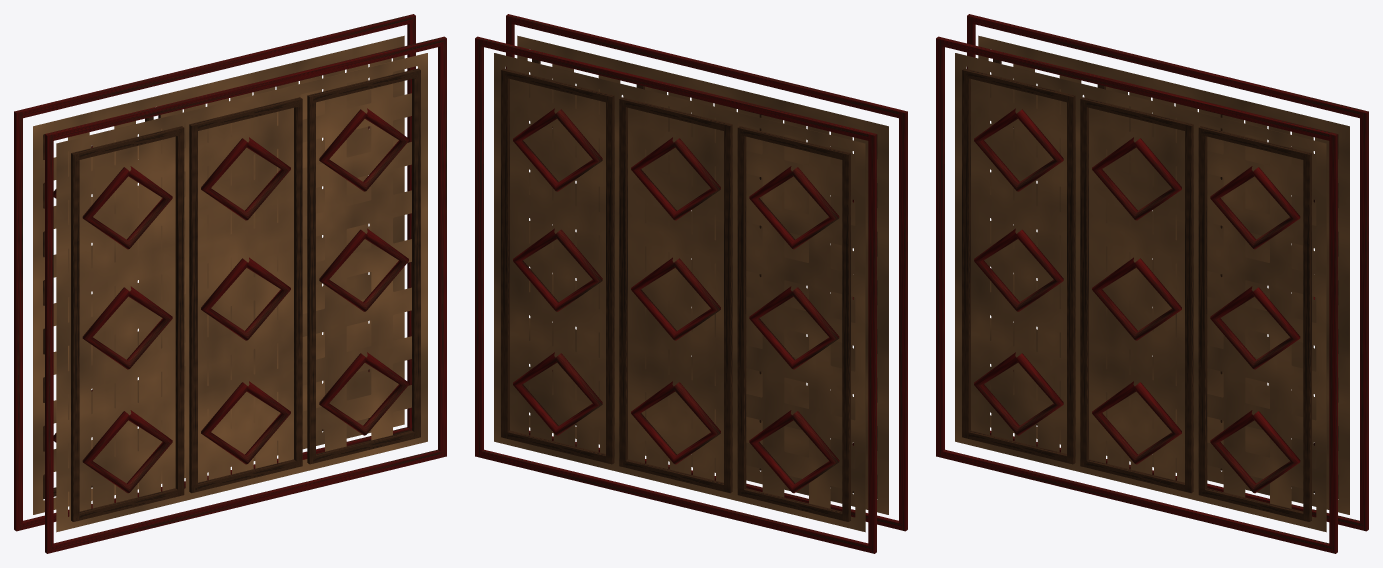
File: window.glb
3 renders of one model, left to right at view 1: azimuth 30°, elevation 25°; view 2: azimuth 150°, elevation 25°; view 3: azimuth 330°, elevation 25°, orthographic.
Parts seen in each view (by area): view 1: Lattice, Art_BurntLacquer, Art_WarmWood, LatticeB; view 2: LatticeB, Art_BurntLacquer, Art_WarmWood, Lattice; view 3: Lattice, Art_BurntLacquer, Art_WarmWood, LatticeB.
Boxes of the visible parts, left/top/right/bottom form: Lattice: left=56, top=53, right=427, bottom=532; Art_BurntLacquer: left=14, top=14, right=446, bottom=553; Art_WarmWood: left=43, top=68, right=420, bottom=521; LatticeB: left=33, top=35, right=404, bottom=514; LatticeB: left=494, top=53, right=865, bottom=532; Art_BurntLacquer: left=475, top=14, right=907, bottom=553; Art_WarmWood: left=501, top=59, right=877, bottom=521; Lattice: left=517, top=35, right=888, bottom=514; Lattice: left=955, top=53, right=1326, bottom=532; Art_BurntLacquer: left=936, top=14, right=1368, bottom=553; Art_WarmWood: left=962, top=59, right=1338, bottom=521; LatticeB: left=978, top=35, right=1349, bottom=514.
Size of what is drawn, in the model's own units: 1.18 by 1.18 by 0.1805.
3 materials, 3 textured.
